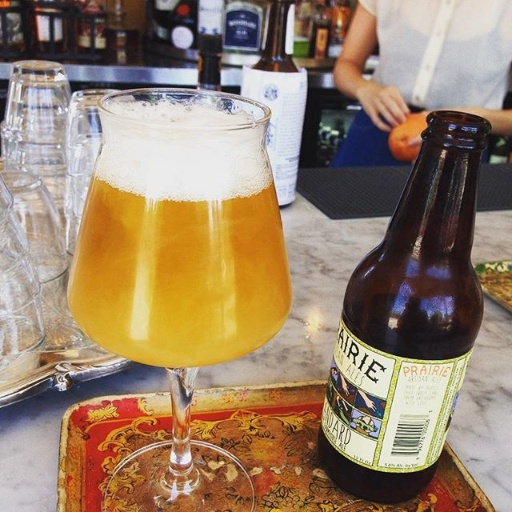hand: (348, 64, 424, 129), (406, 106, 465, 166)
